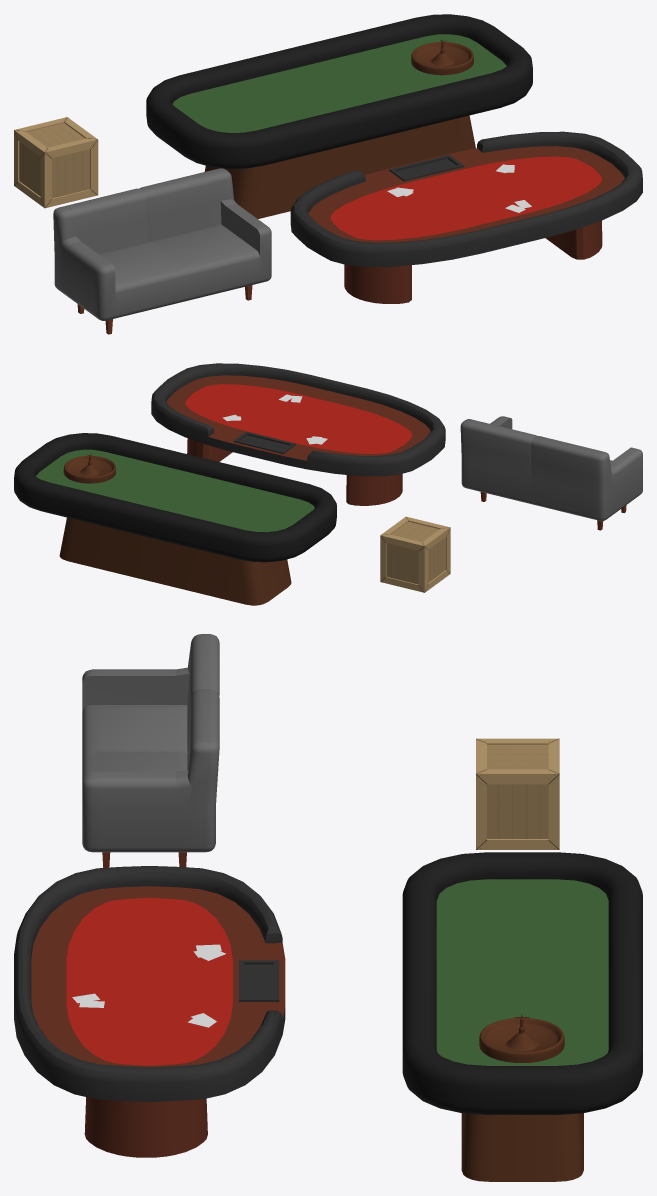
Rendered from casino_furniture_vol2.fbx.
The picture shows the model from 3 angles, top to bottom: view 1: azimuth 30°, elevation 25°; view 2: azimuth 150°, elevation 25°; view 3: azimuth 270°, elevation 25°; orthographic projection. The views are drawn at different scales.
Parts seen in each view (by area): view 1: RouletteTable, PokerTable, Couch, Crate; view 2: RouletteTable, PokerTable, Couch, Crate; view 3: RouletteTable, PokerTable, Couch, Crate.
Part boxes in pixels (x1,y1,x2,y2): RouletteTable: (146,14,532,218); PokerTable: (290,131,642,303); Couch: (53,168,271,334); Crate: (14,117,98,208); RouletteTable: (14,433,336,605); PokerTable: (151,363,445,505); Couch: (460,416,642,530); Crate: (380,516,450,592); RouletteTable: (402,852,642,1181); PokerTable: (14,866,285,1157); Couch: (82,634,219,867); Crate: (476,738,559,849).
Size of the model in its own units: 2145 by 536 by 1501.
